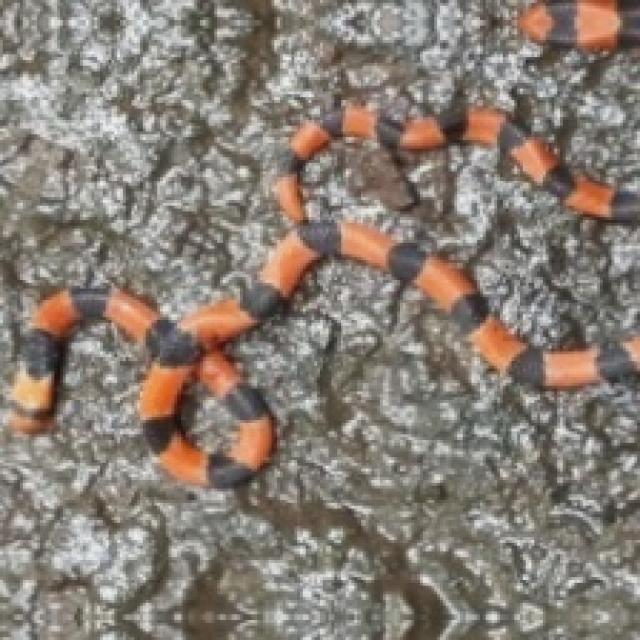barredcoral snake: (9, 106, 637, 486), (274, 103, 637, 220), (517, 0, 637, 49), (563, 194, 637, 220)
